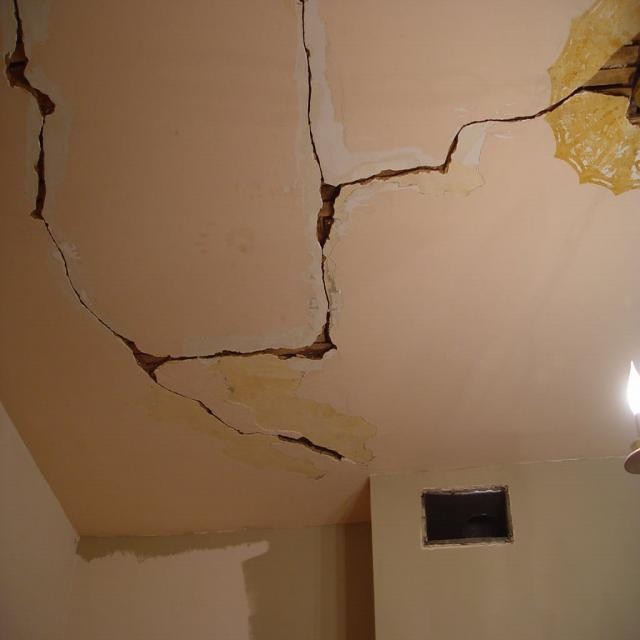Crack: (139, 365, 351, 463), (445, 87, 582, 178), (41, 220, 133, 351), (5, 1, 56, 219), (296, 0, 326, 184), (582, 33, 640, 127), (132, 344, 337, 367), (315, 187, 340, 351), (321, 164, 446, 188)
